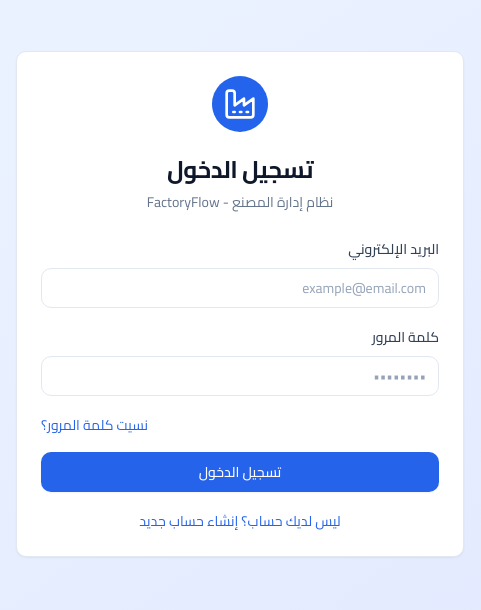
Test: LoginPage › Rate Limiting › shows low attempts warning alert when only 2 attempts remain
In the field labelled "البريد الإلكتروني": (240, 288) x1=41 y1=268 x2=439 y2=308, type "test@example.com"
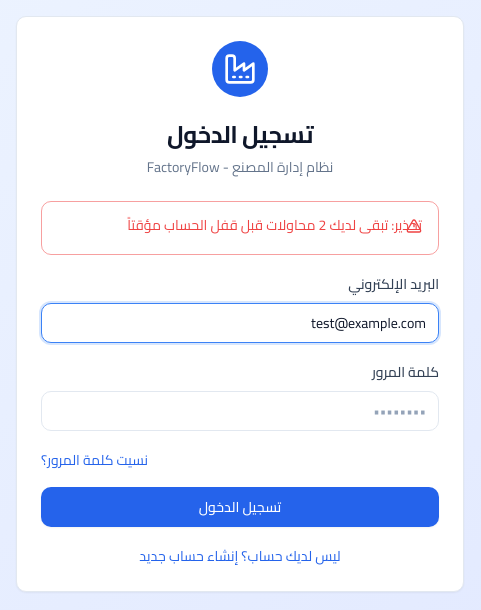
Expected: the text "تحذير: تبقى لديك 2 محاولات قبل قفل الحساب مؤقتاً" is shown, x1=127 y1=212 x2=422 y2=238
